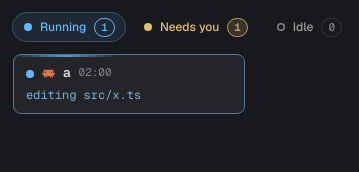
it: SessionSwitcher › gives a running card its activity and a waiting card the attention state
Check: the text "editing src/x.ts" is shown, box [26,88,141,103]
Step 1. Click the tab "Needs you 1" → click(195, 27), box [132,12,259,42]
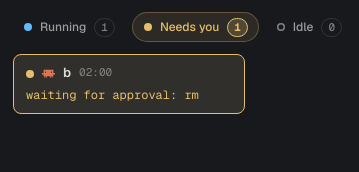
Check: the button with class "sw-card--waiting" is shown, box [13,54,245,114]
